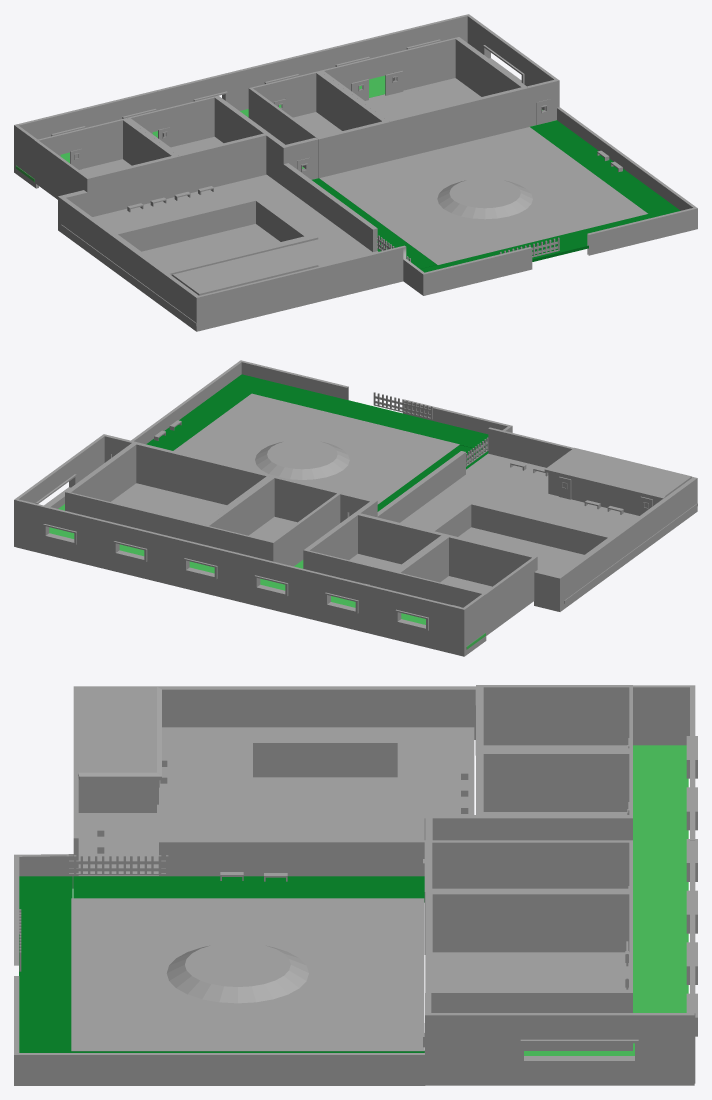
Rendered from Blocking2.fbx.
The picture shows the model from 3 angles, top to bottom: view 1: azimuth 30°, elevation 25°; view 2: azimuth 150°, elevation 25°; view 3: azimuth 270°, elevation 25°; orthographic projection. The views are drawn at different scales.
Visible parts, largest first — view 1: pCube2, pCube5, pCube3, Room3, Room4, Room7, Room6, pCube1, Room1, pCube37, pDisc1, pCube15 (+8 smaller); view 2: pCube3, pCube2, pCube5, Room3, pCube1, Room4, Room7, Room6, pCube33, pCube37, pCube7, pCube32 (+10 smaller); view 3: pCube2, pCube3, pCube1, pCube5, Room3, pCube15, Room6, Room7, Room1, Room4, pCube37, pDisc1 (+9 smaller).
Boxes of the visible parts, <box> form: pCube2: <box>319,127,647,264</box>; pCube5: <box>58,107,697,331</box>; pCube3: <box>61,174,378,325</box>; Room3: <box>320,37,536,160</box>; Room4: <box>34,118,179,216</box>; Room7: <box>248,71,389,178</box>; Room6: <box>127,95,270,193</box>; pCube1: <box>15,75,680,272</box>; Room1: <box>266,134,377,251</box>; pCube37: <box>171,245,318,295</box>; pDisc1: <box>437,178,532,219</box>; pCube15: <box>466,14,559,121</box>; pCube3: <box>400,453,697,603</box>; pCube2: <box>173,393,459,504</box>; pCube5: <box>131,360,697,611</box>; Room3: <box>65,441,271,544</box>; pCube1: <box>49,374,488,649</box>; Room4: <box>394,534,537,636</box>; Room7: <box>203,475,342,566</box>; Room6: <box>303,512,446,590</box>; pCube33: <box>16,499,113,570</box>; pCube37: <box>544,447,691,499</box>; pCube7: <box>394,591,465,656</box>; pCube32: <box>182,540,254,604</box>; pCube2: <box>71,898,424,1051</box>; pCube3: <box>74,727,474,876</box>; pCube1: <box>19,745,688,1055</box>; pCube5: <box>14,686,475,1085</box>; Room3: <box>425,892,632,1050</box>; pCube15: <box>425,993,694,1085</box>; Room6: <box>476,751,632,840</box>; Room7: <box>424,840,632,954</box>; Room1: <box>159,815,475,875</box>; Room4: <box>476,685,632,751</box>; pCube37: <box>78,686,161,780</box>; pDisc1: <box>166,942,308,1003</box>.
Bounding box in the file's own units: 41.11 × 4.88 × 33.86.
